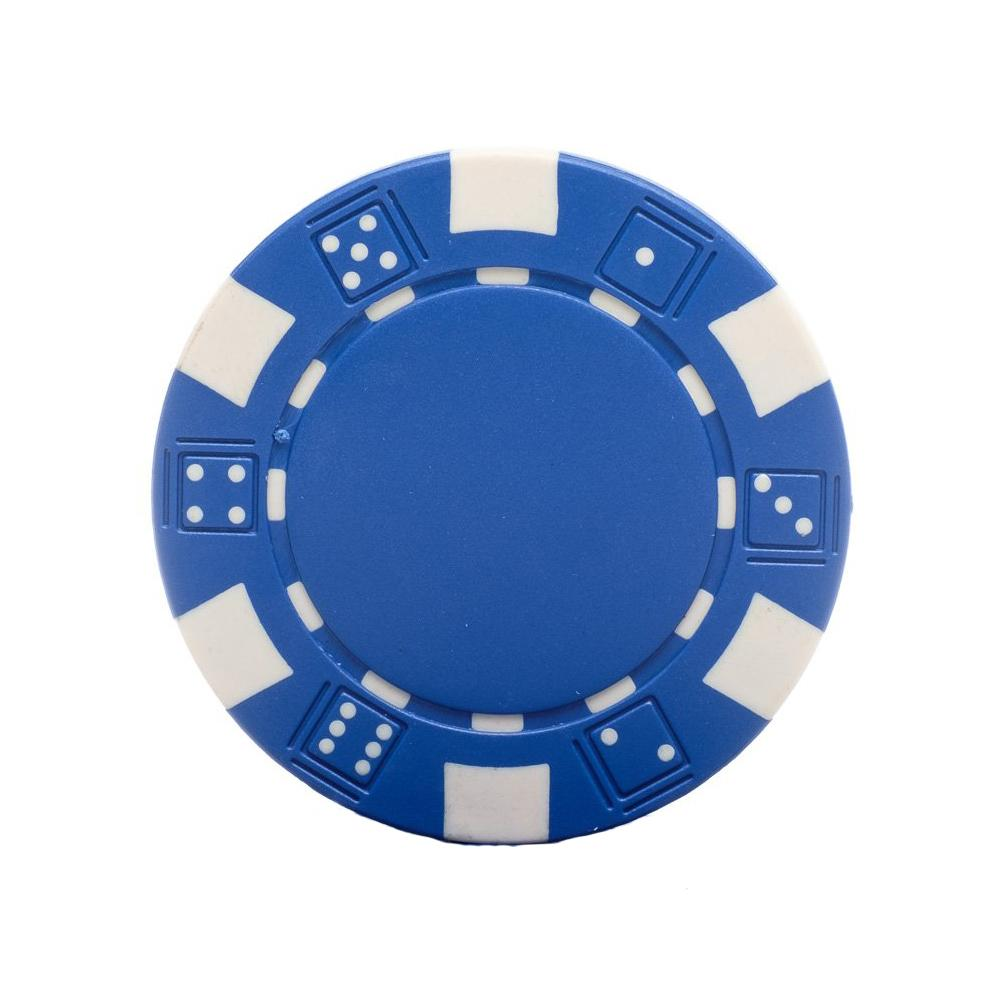chip-blue: (152, 150, 850, 843)
